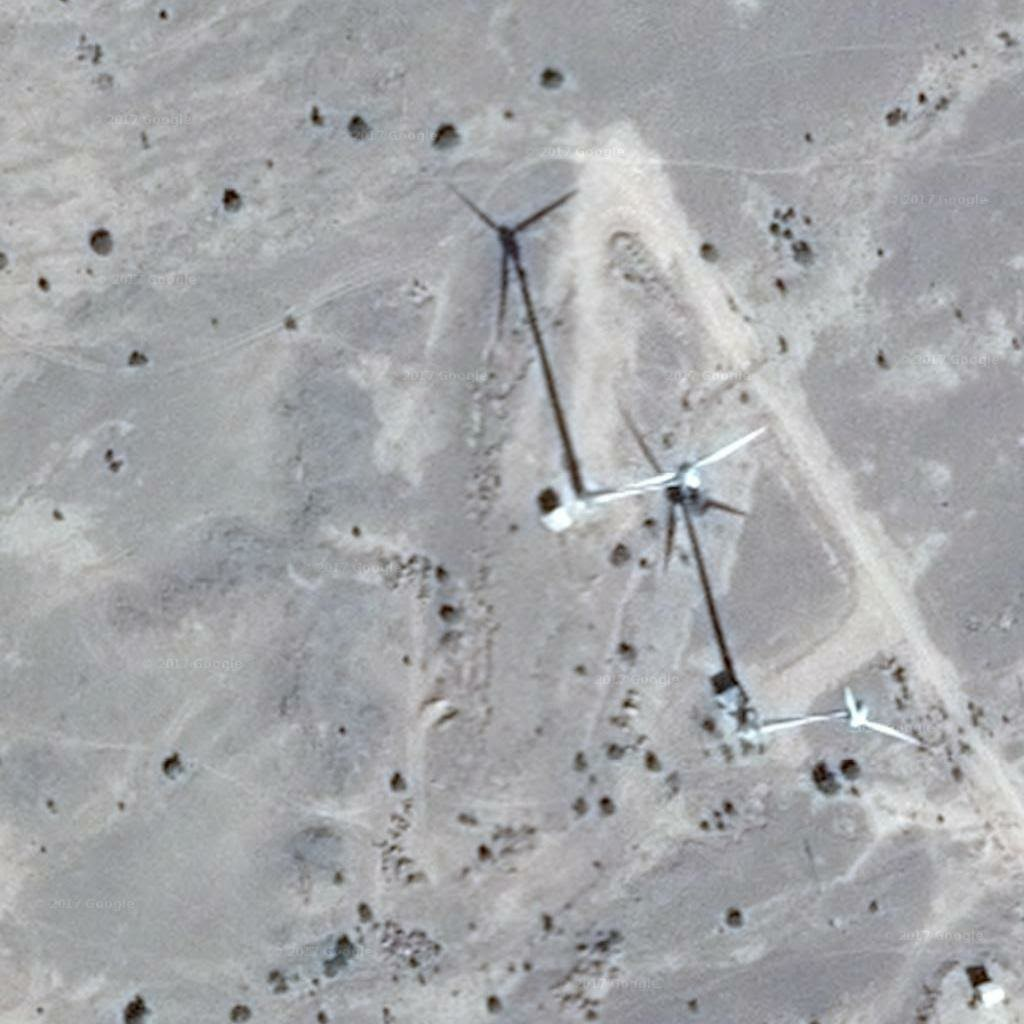Windmill: (438, 173, 595, 492)
